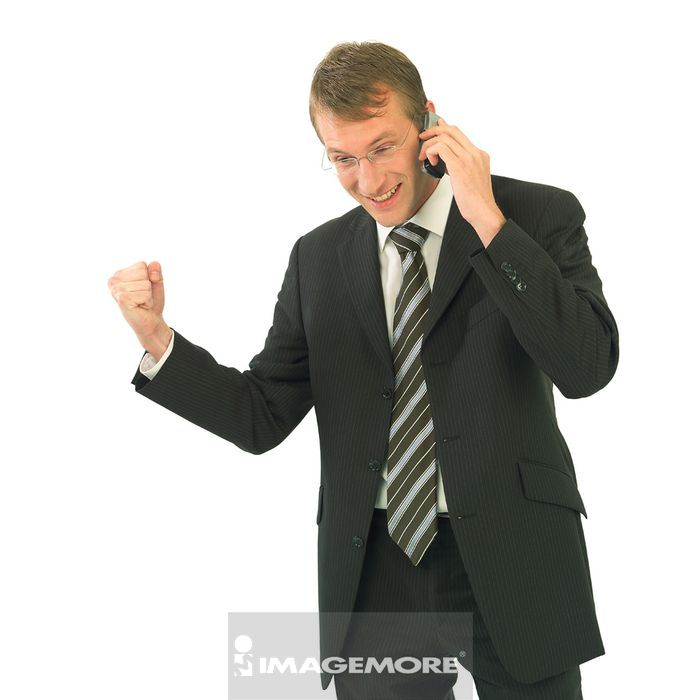phone: (420, 111, 448, 182)
talk: (327, 110, 495, 229)
